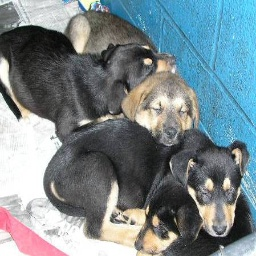dog: (7, 16, 254, 245)
